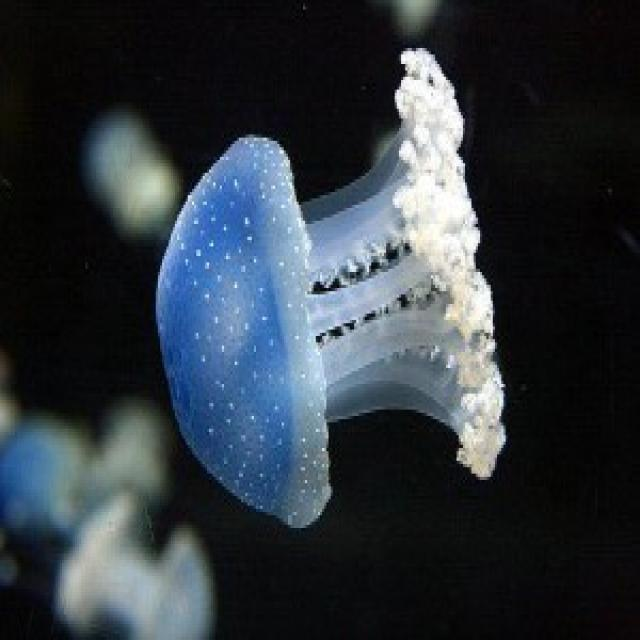Jellyfish: (144, 53, 516, 517)
